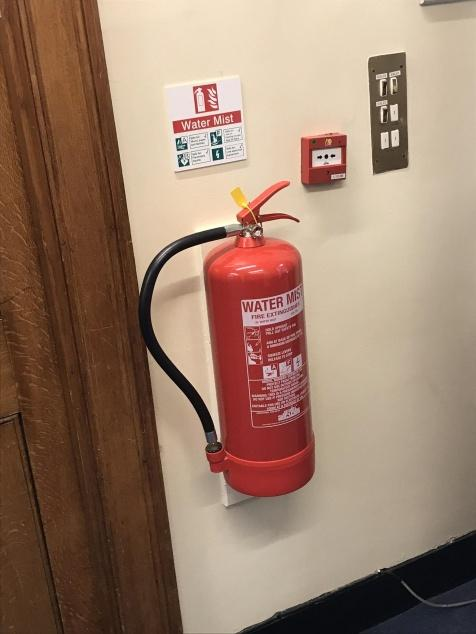APAR: (201, 179, 316, 497)
